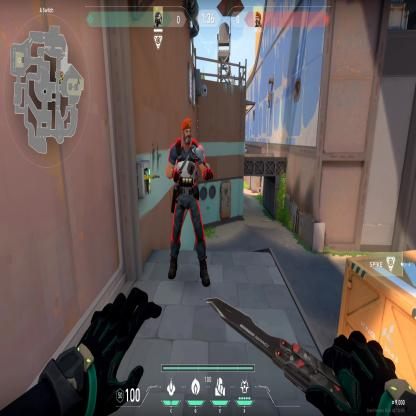enemy: (161, 112, 214, 290)
